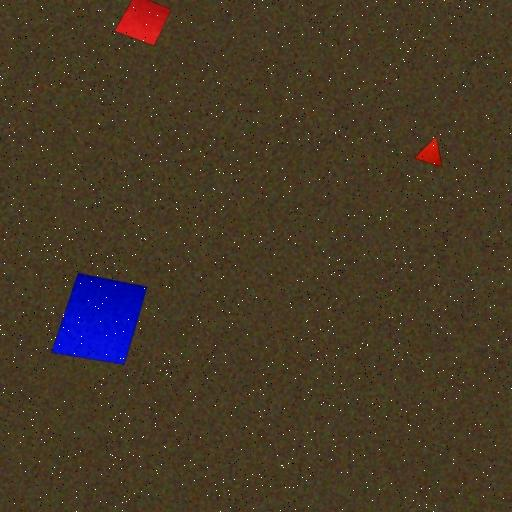BLUE_SQUARE: (50, 272, 148, 366)
RED_SQUARE: (113, 0, 172, 46)
